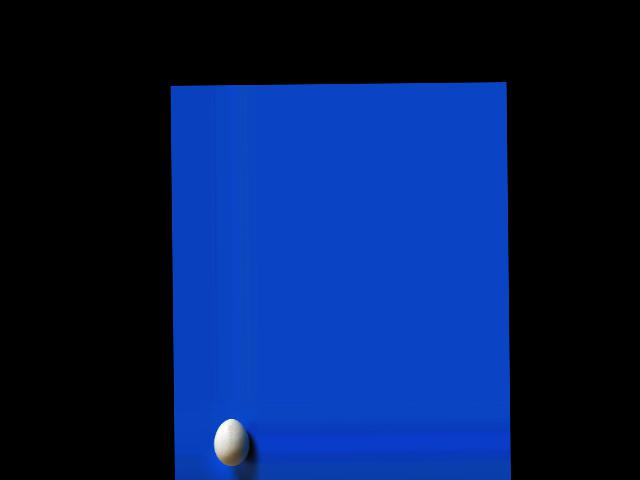egg: (213, 418, 250, 467)
